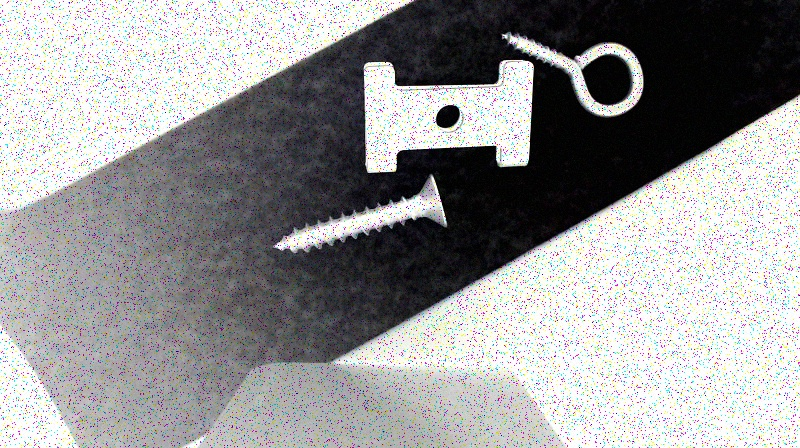O001: (500, 30, 645, 117)
O002: (360, 57, 534, 173)
S001: (273, 173, 448, 253)
